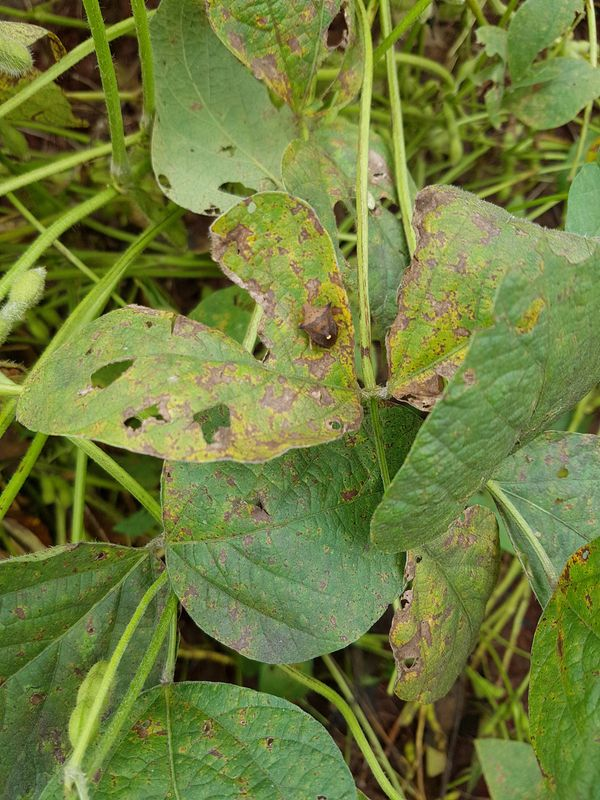Euschistus_heros_adulto: (289, 294, 352, 360)
